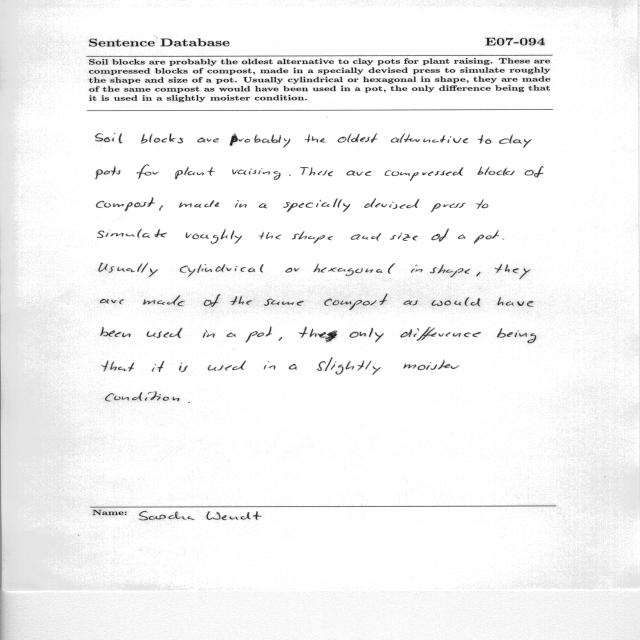word: (317, 357, 381, 375), (400, 327, 481, 341), (385, 167, 464, 181), (180, 264, 264, 277), (313, 263, 395, 276), (324, 294, 388, 310), (284, 198, 351, 212), (230, 133, 290, 148), (96, 197, 155, 212), (99, 263, 158, 278), (186, 229, 242, 244), (391, 134, 468, 143), (105, 392, 169, 402), (97, 229, 167, 238), (365, 198, 420, 209), (232, 168, 281, 180), (497, 328, 536, 343), (403, 360, 460, 370), (495, 264, 531, 279), (430, 264, 470, 277), (292, 231, 333, 243), (175, 167, 215, 179), (350, 328, 384, 342), (499, 134, 532, 148), (143, 295, 185, 306), (432, 298, 480, 307), (141, 134, 183, 144), (208, 360, 246, 371), (246, 327, 272, 343), (338, 133, 378, 143), (498, 297, 534, 307), (102, 361, 134, 372), (310, 329, 337, 342), (474, 230, 499, 244), (147, 328, 182, 338), (477, 167, 515, 176), (95, 166, 121, 179), (179, 200, 220, 208), (264, 298, 304, 306), (431, 203, 466, 212), (137, 165, 159, 179), (101, 327, 131, 337), (300, 167, 333, 176), (96, 133, 123, 143), (432, 228, 450, 242), (351, 233, 381, 241), (390, 233, 418, 241), (204, 294, 221, 307), (525, 166, 544, 177), (230, 296, 252, 305), (305, 135, 326, 143), (259, 232, 281, 239), (152, 361, 164, 372), (476, 199, 489, 209), (347, 171, 372, 176), (100, 299, 124, 304), (478, 135, 491, 144), (197, 138, 219, 143), (299, 327, 308, 338), (264, 361, 275, 370), (411, 265, 423, 273), (203, 330, 215, 338), (235, 200, 246, 208), (179, 363, 188, 372), (285, 268, 300, 273), (404, 301, 418, 306), (259, 203, 267, 208), (289, 364, 297, 369), (227, 333, 236, 337), (458, 234, 465, 239), (159, 205, 163, 211), (173, 397, 179, 401), (477, 272, 481, 276), (279, 337, 282, 341), (289, 174, 291, 176), (503, 239, 504, 240)
